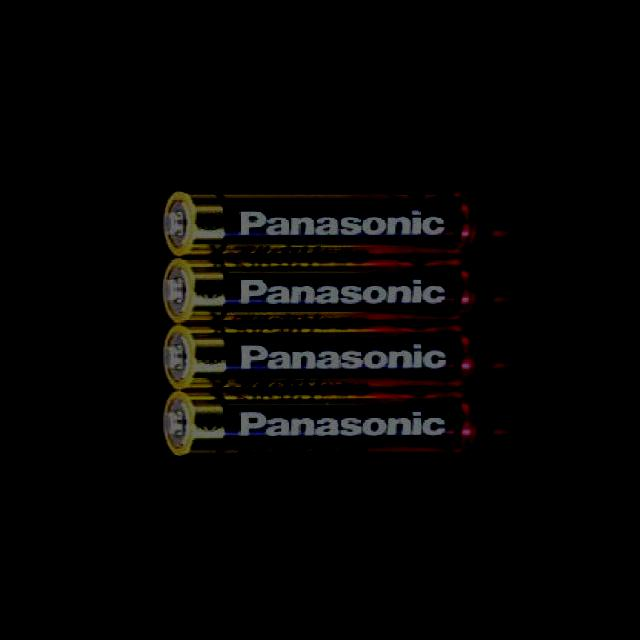AAA: (157, 255, 485, 323), (160, 187, 486, 255), (160, 389, 480, 457), (160, 321, 486, 387)
